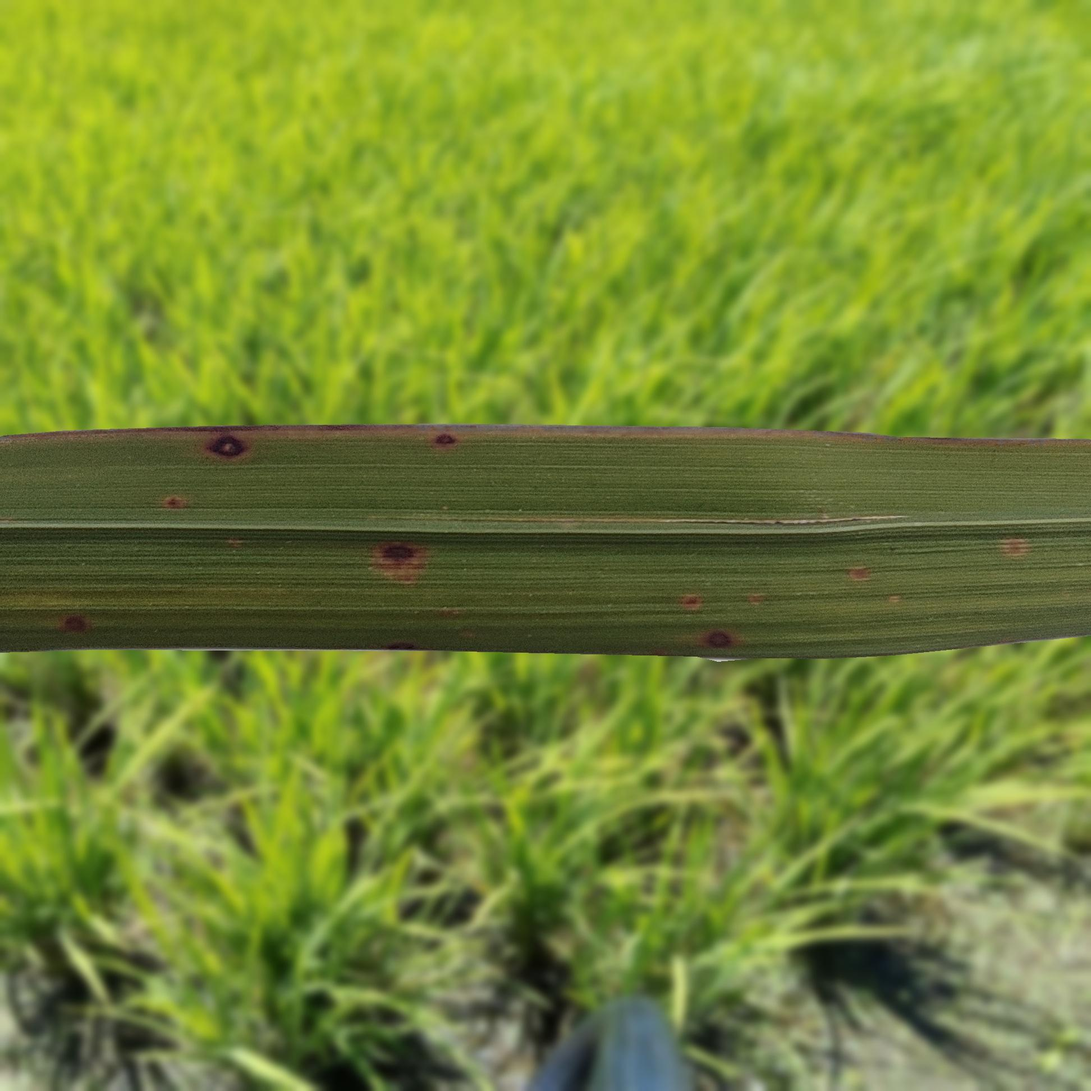LEAF BLAST: (372, 542, 427, 583), (206, 433, 248, 458), (702, 630, 737, 648), (433, 433, 457, 446)
